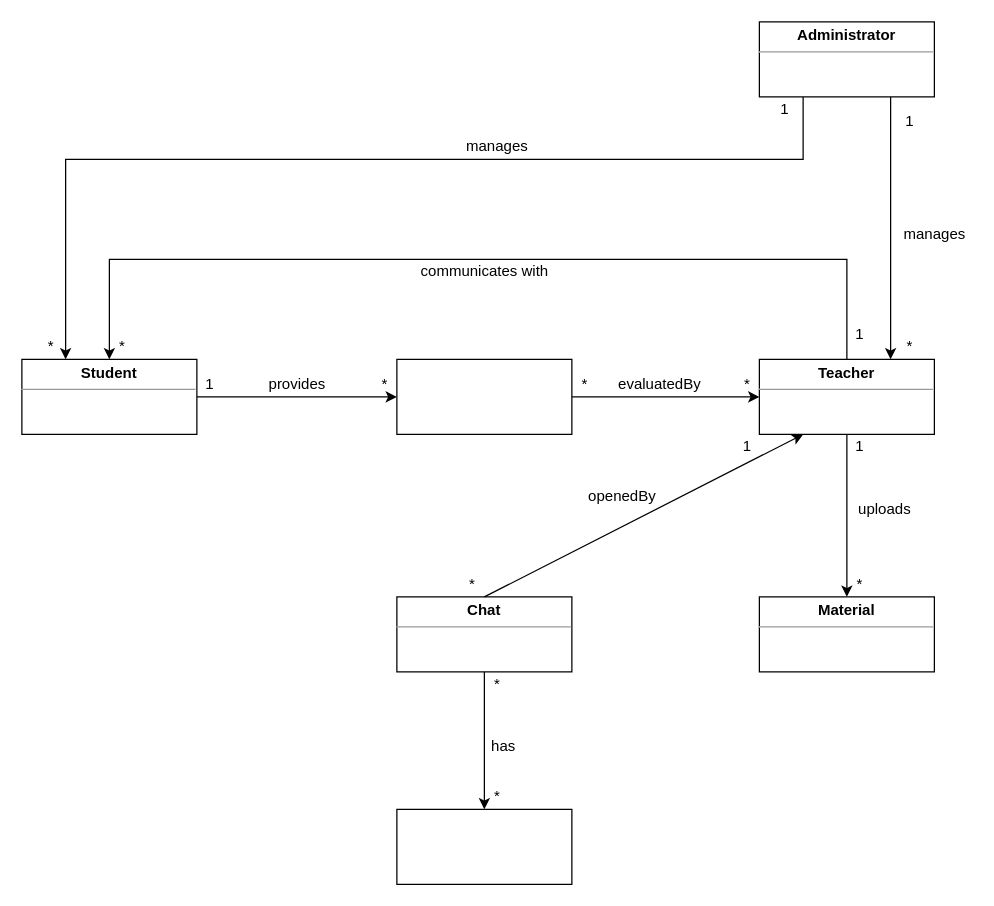
The diagram is 994 pixels wide and 906 high, and some of its shapes have lost their labels. The shapes that lost their labels are listed below. From the top down, each one's centre as x and y in pixels, then its label:
At point (484, 396): "Solution".
At point (484, 846): "Message".
